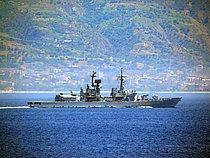MIL_Ship: (26, 66, 183, 109)
